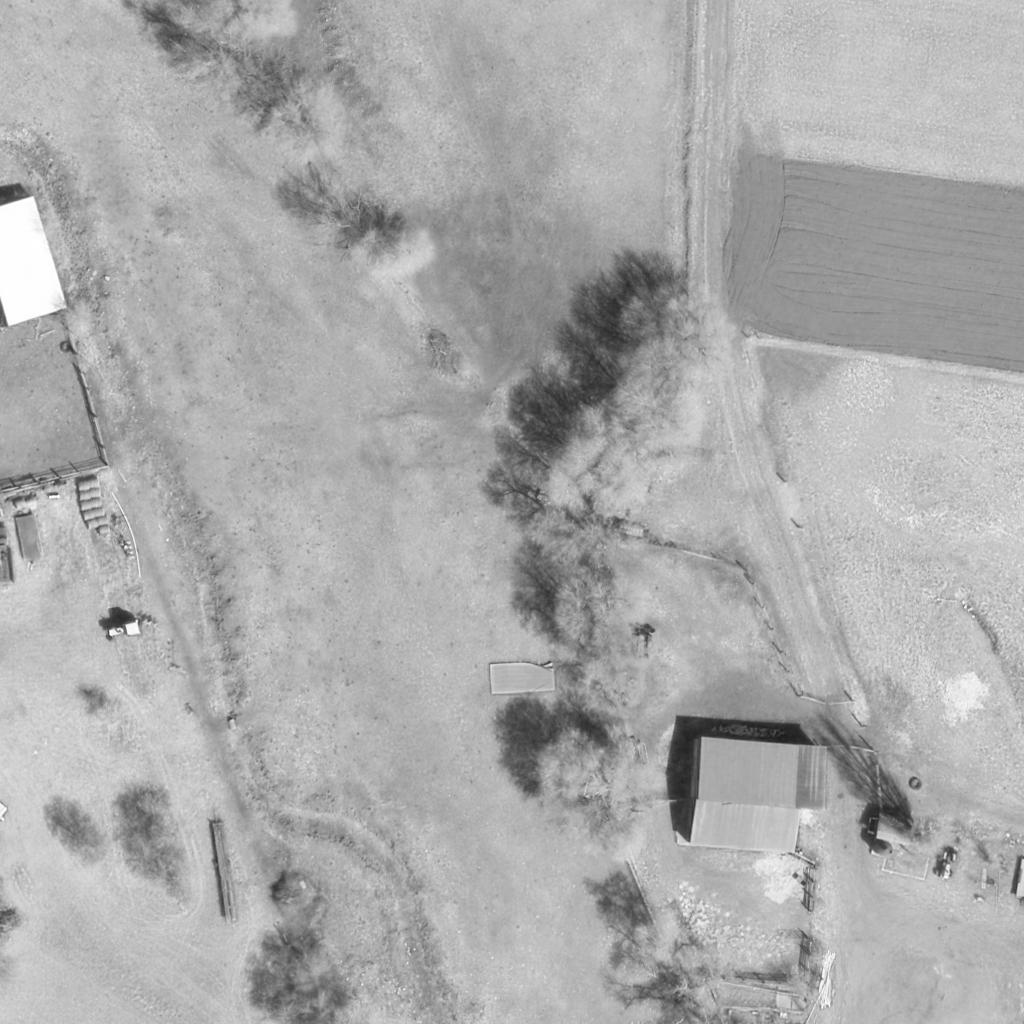vehicle: (108, 616, 142, 644), (937, 847, 961, 883)
